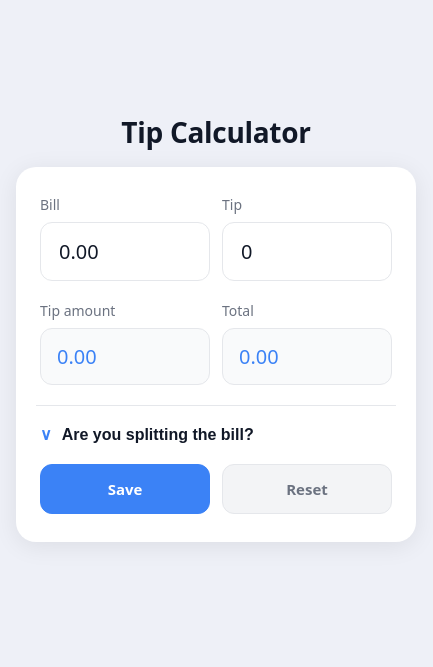
it: App – Number of people › "1" is blocked (isValidPeopleInput allows, normalizePeople fixes on blur)
Click the text "Are you splitting the bill?": x=158, y=434 [62,426,254,444]
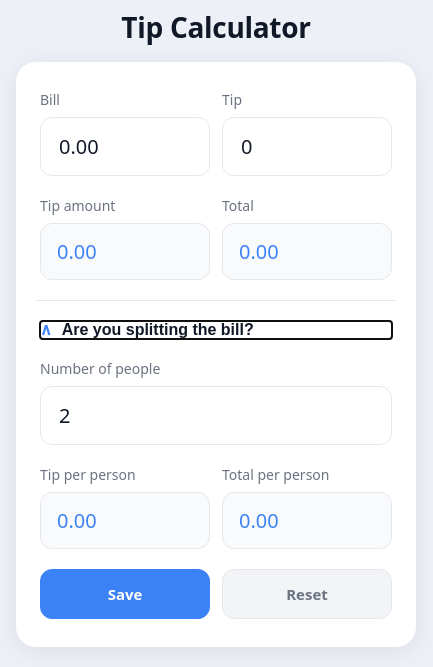
Replace the text in the number field labelled "Number of people" with "1": x=216, y=415 [57,400,375,430]
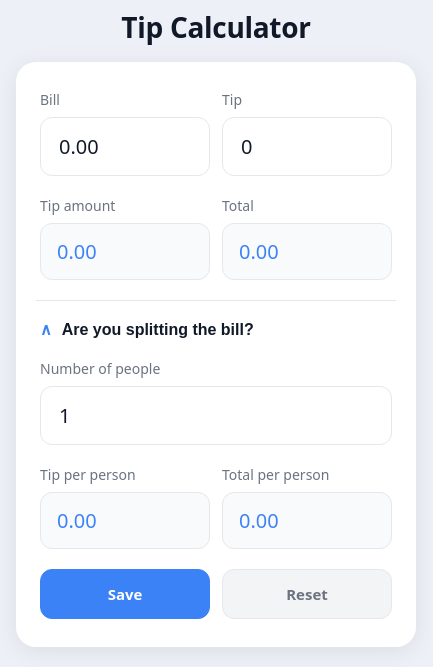
Press Tab
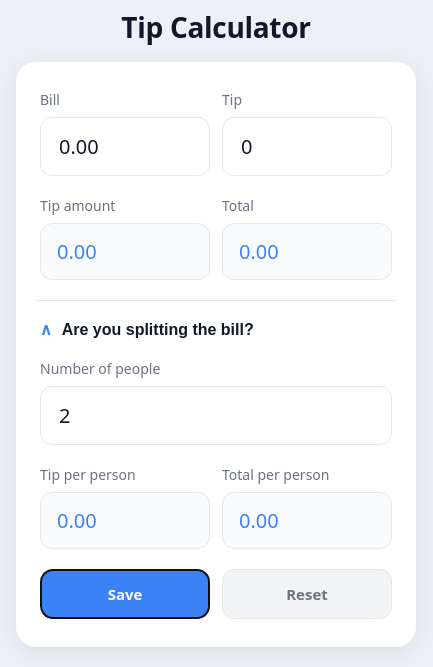
Check: the number field labelled "Number of people" holds "2", box [57,400,375,430]
